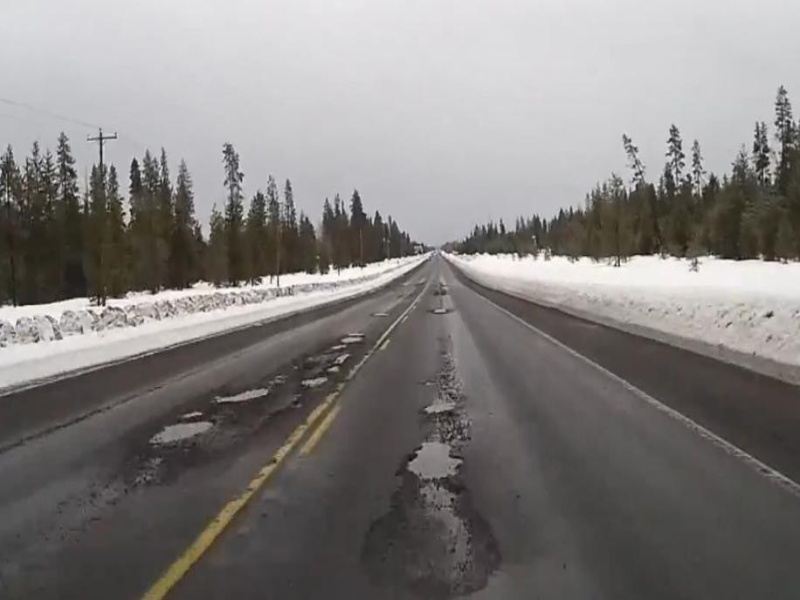pothole: (399, 437, 469, 486), (140, 414, 219, 450), (210, 384, 274, 405), (416, 397, 460, 417), (300, 373, 328, 391)
